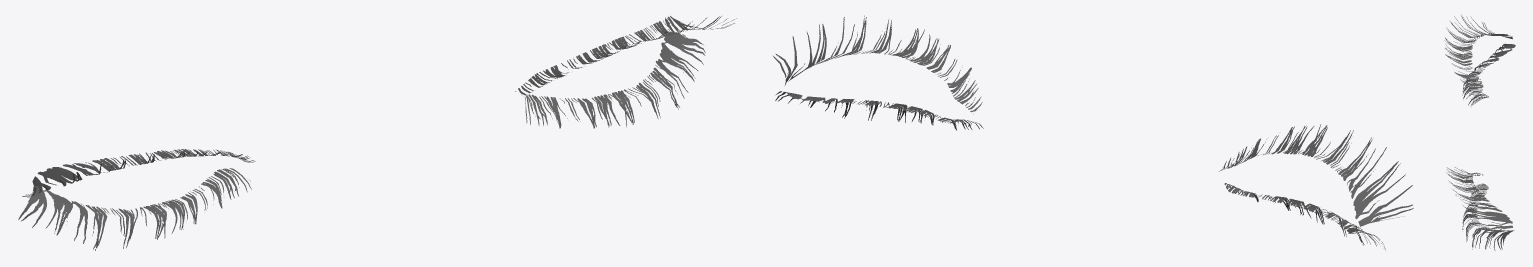
Rendered from lashes.glb.
The picture shows the model from 3 angles, left to right: view 1: azimuth 30°, elevation 25°; view 2: azimuth 150°, elevation 25°; view 3: azimuth 270°, elevation 25°; orthographic projection. The views are drawn at different scales.
Parts seen in each view (by area): view 1: editor_lashes; view 2: editor_lashes; view 3: editor_lashes.
Part boxes in pixels (<box>): editor_lashes: <box>18,16,736,250</box>; editor_lashes: <box>773,15,1413,249</box>; editor_lashes: <box>1444,14,1515,250</box>.
Bounding box in the file's own units: 0.0973 × 0.0139 × 0.0145.
1 material, 1 textured.
